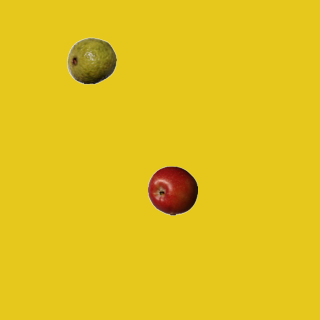Apple Braeburn: (147, 165, 197, 215)
Guava: (66, 35, 116, 85)
